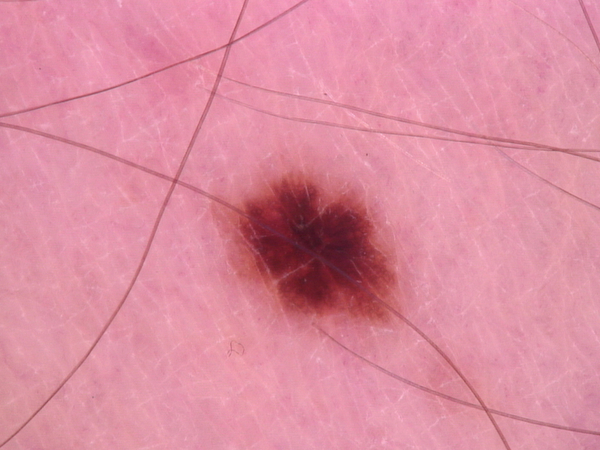Detected Lesion: (215, 166, 412, 329)
